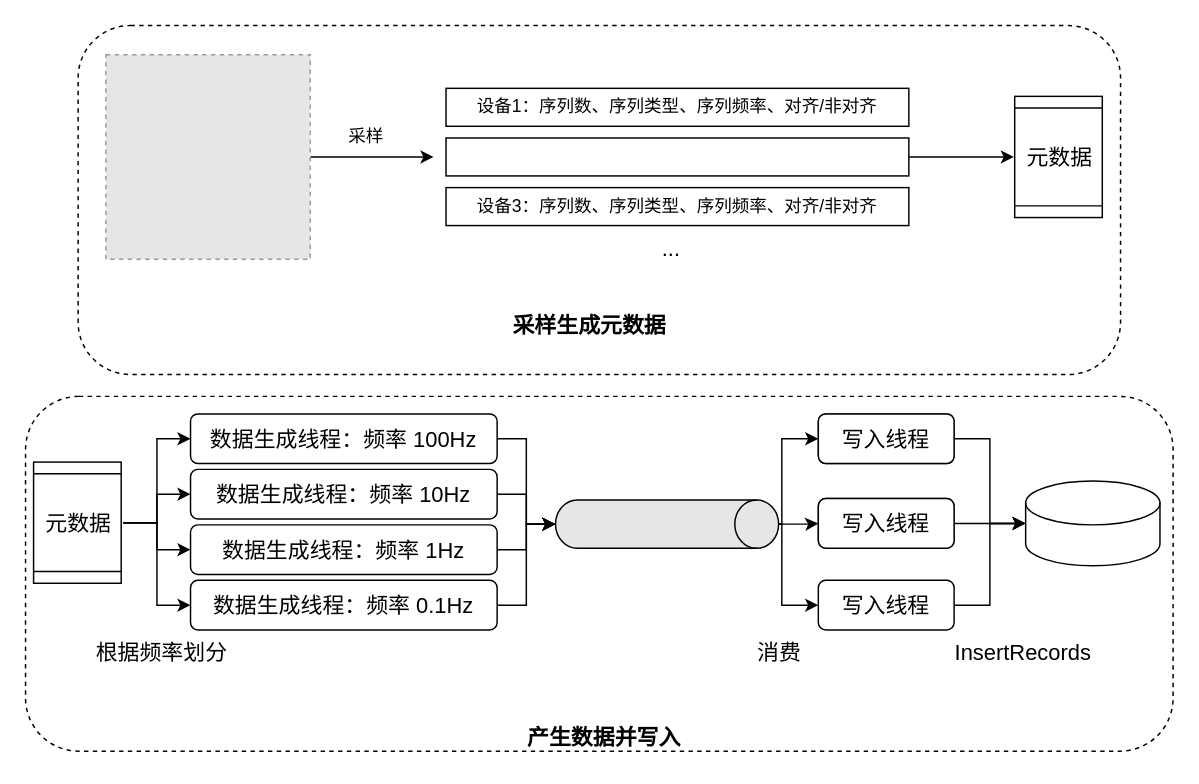
Image size: 1199x784. Some labels were removed from this diagram. Grey dashed boxes stand in for pictures. Each missing label, with the centre of its shape:
"IoTDB" belongs at (1092,523).
"数据消费队列" belongs at (666,523).
"设备2：序列数、序列类型、序列频率、对齐/非对齐" belongs at (677,156).
